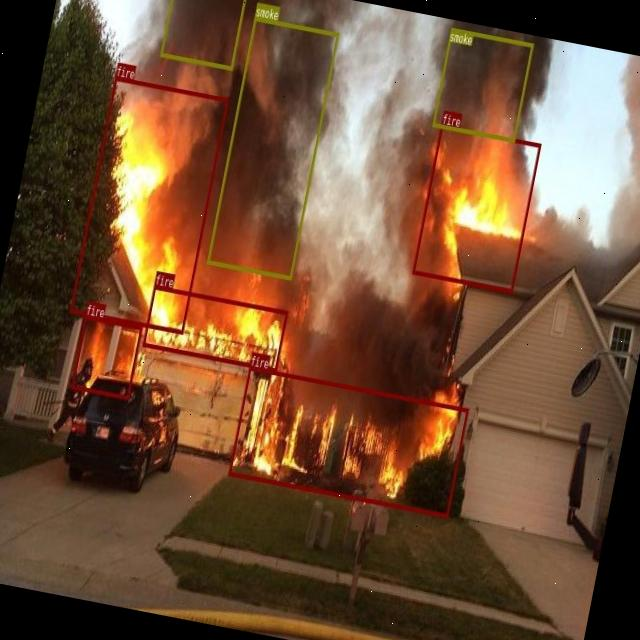fire: (69, 75, 229, 334), (228, 366, 469, 517), (412, 124, 540, 293), (142, 284, 288, 372), (70, 315, 142, 399)
smoke: (207, 16, 339, 279), (432, 28, 534, 142), (160, 0, 248, 69)
